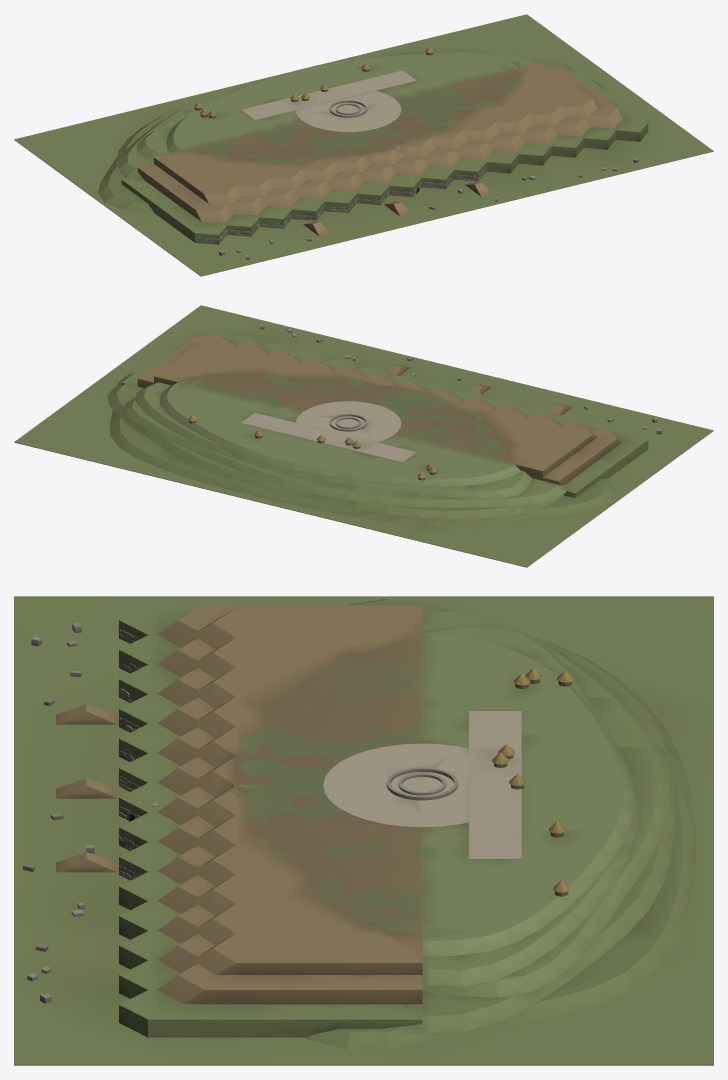
Rendered from sacsayhuaman-1470.glb.
The picture shows the model from 3 angles, top to bottom: view 1: azimuth 30°, elevation 25°; view 2: azimuth 150°, elevation 25°; view 3: azimuth 270°, elevation 25°; orthographic projection. The views are drawn at different scales.
Visible parts, largest first — view 1: p0_hill, p1_walls; view 2: p0_hill, p1_walls; view 3: p0_hill, p1_walls, p2_camp.
Part boxes in pixels (<box>): p0_hill: <box>14,14,713,276</box>; p1_walls: <box>194,52,638,259</box>; p0_hill: <box>14,305,713,567</box>; p1_walls: <box>189,324,662,480</box>; p0_hill: <box>14,596,713,1065</box>; p1_walls: <box>23,622,571,1003</box>; p2_camp: <box>492,668,573,892</box>.
Bounding box in the file's own units: 380 × 22.3 × 240.
